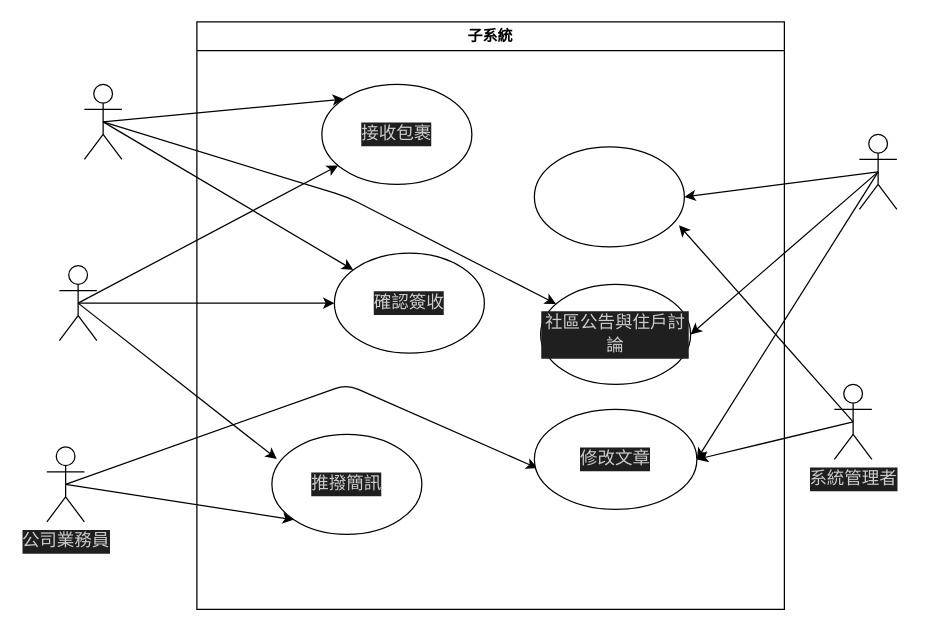
Image size: 929x631. Some labels were removed from this diagram. The shapes that lost their labels are listed below. From the top down, each one's box as (x1, y1, x2, y2) in pixels, then its label:
(83, 83, 122, 159): 大樓住戶
(858, 133, 897, 209): 大樓委員
(533, 146, 684, 247): 發起文章
(58, 264, 97, 341): 警衛
